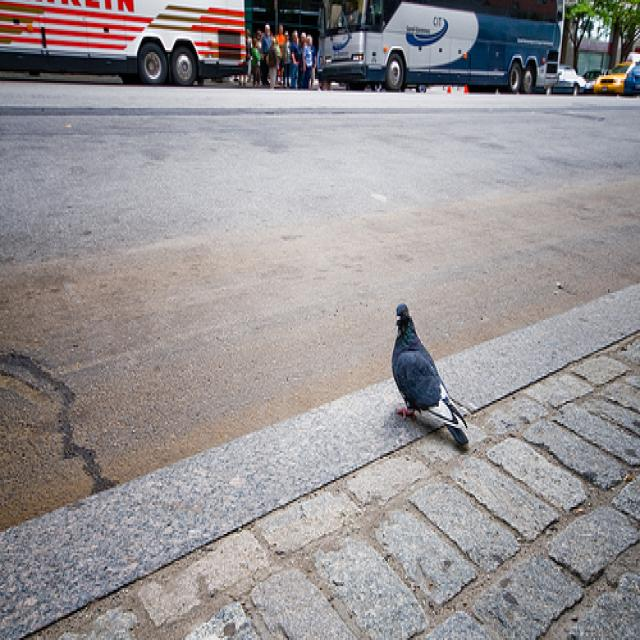Vehicle: (312, 3, 566, 98), (2, 3, 249, 90), (593, 62, 634, 94), (544, 65, 585, 95), (624, 57, 640, 94), (582, 69, 606, 90)
